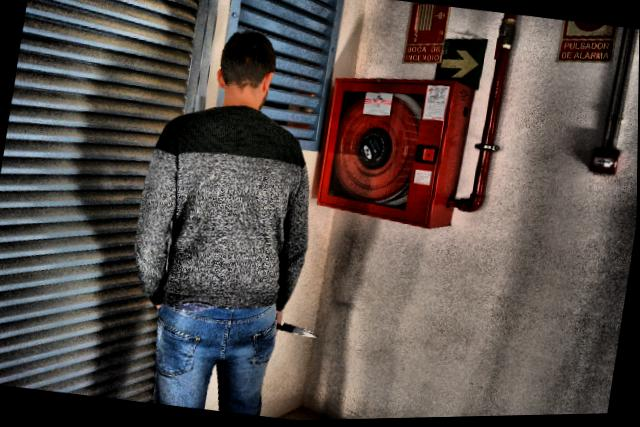knife: (276, 318, 324, 342)
